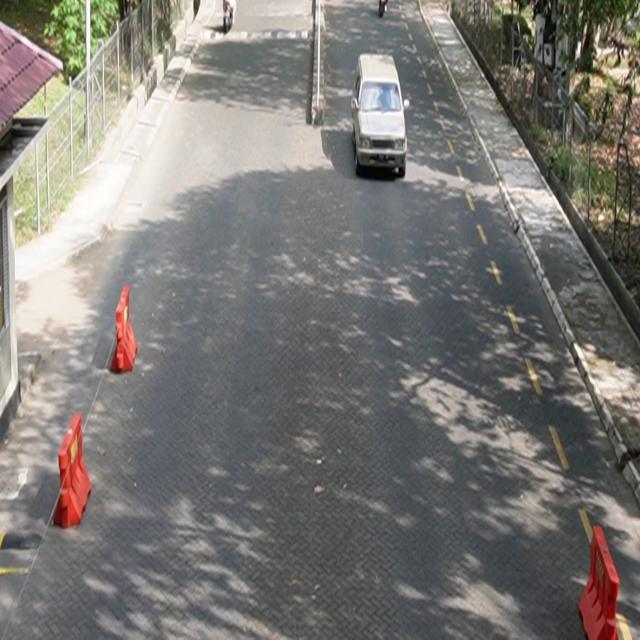car: (352, 53, 411, 179)
